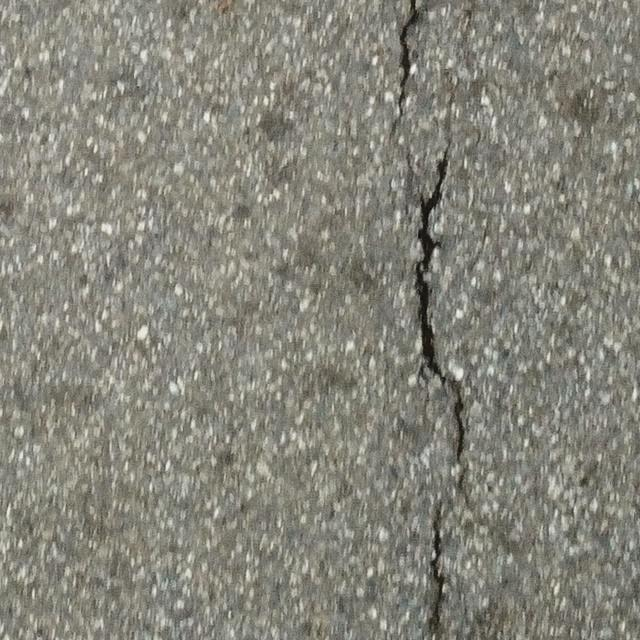LongitudinalCrack: (414, 138, 466, 461), (389, 1, 420, 138), (427, 499, 448, 600)
